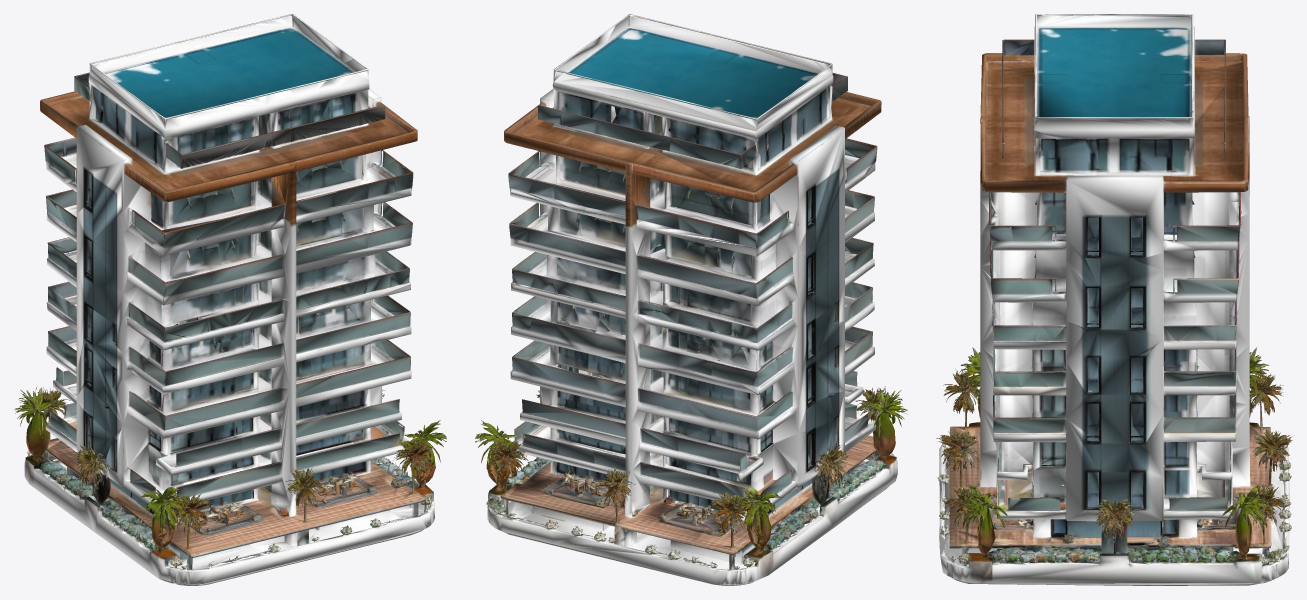
The model's file is coastal_a.glb.
The picture shows the model from 3 angles, left to right: view 1: azimuth 30°, elevation 25°; view 2: azimuth 150°, elevation 25°; view 3: azimuth 270°, elevation 25°; orthographic projection. The views are drawn at different scales.
Size of the model in its own units: 1.41 by 1.9 by 1.36.
Materials: 1 (1 with a texture image).
